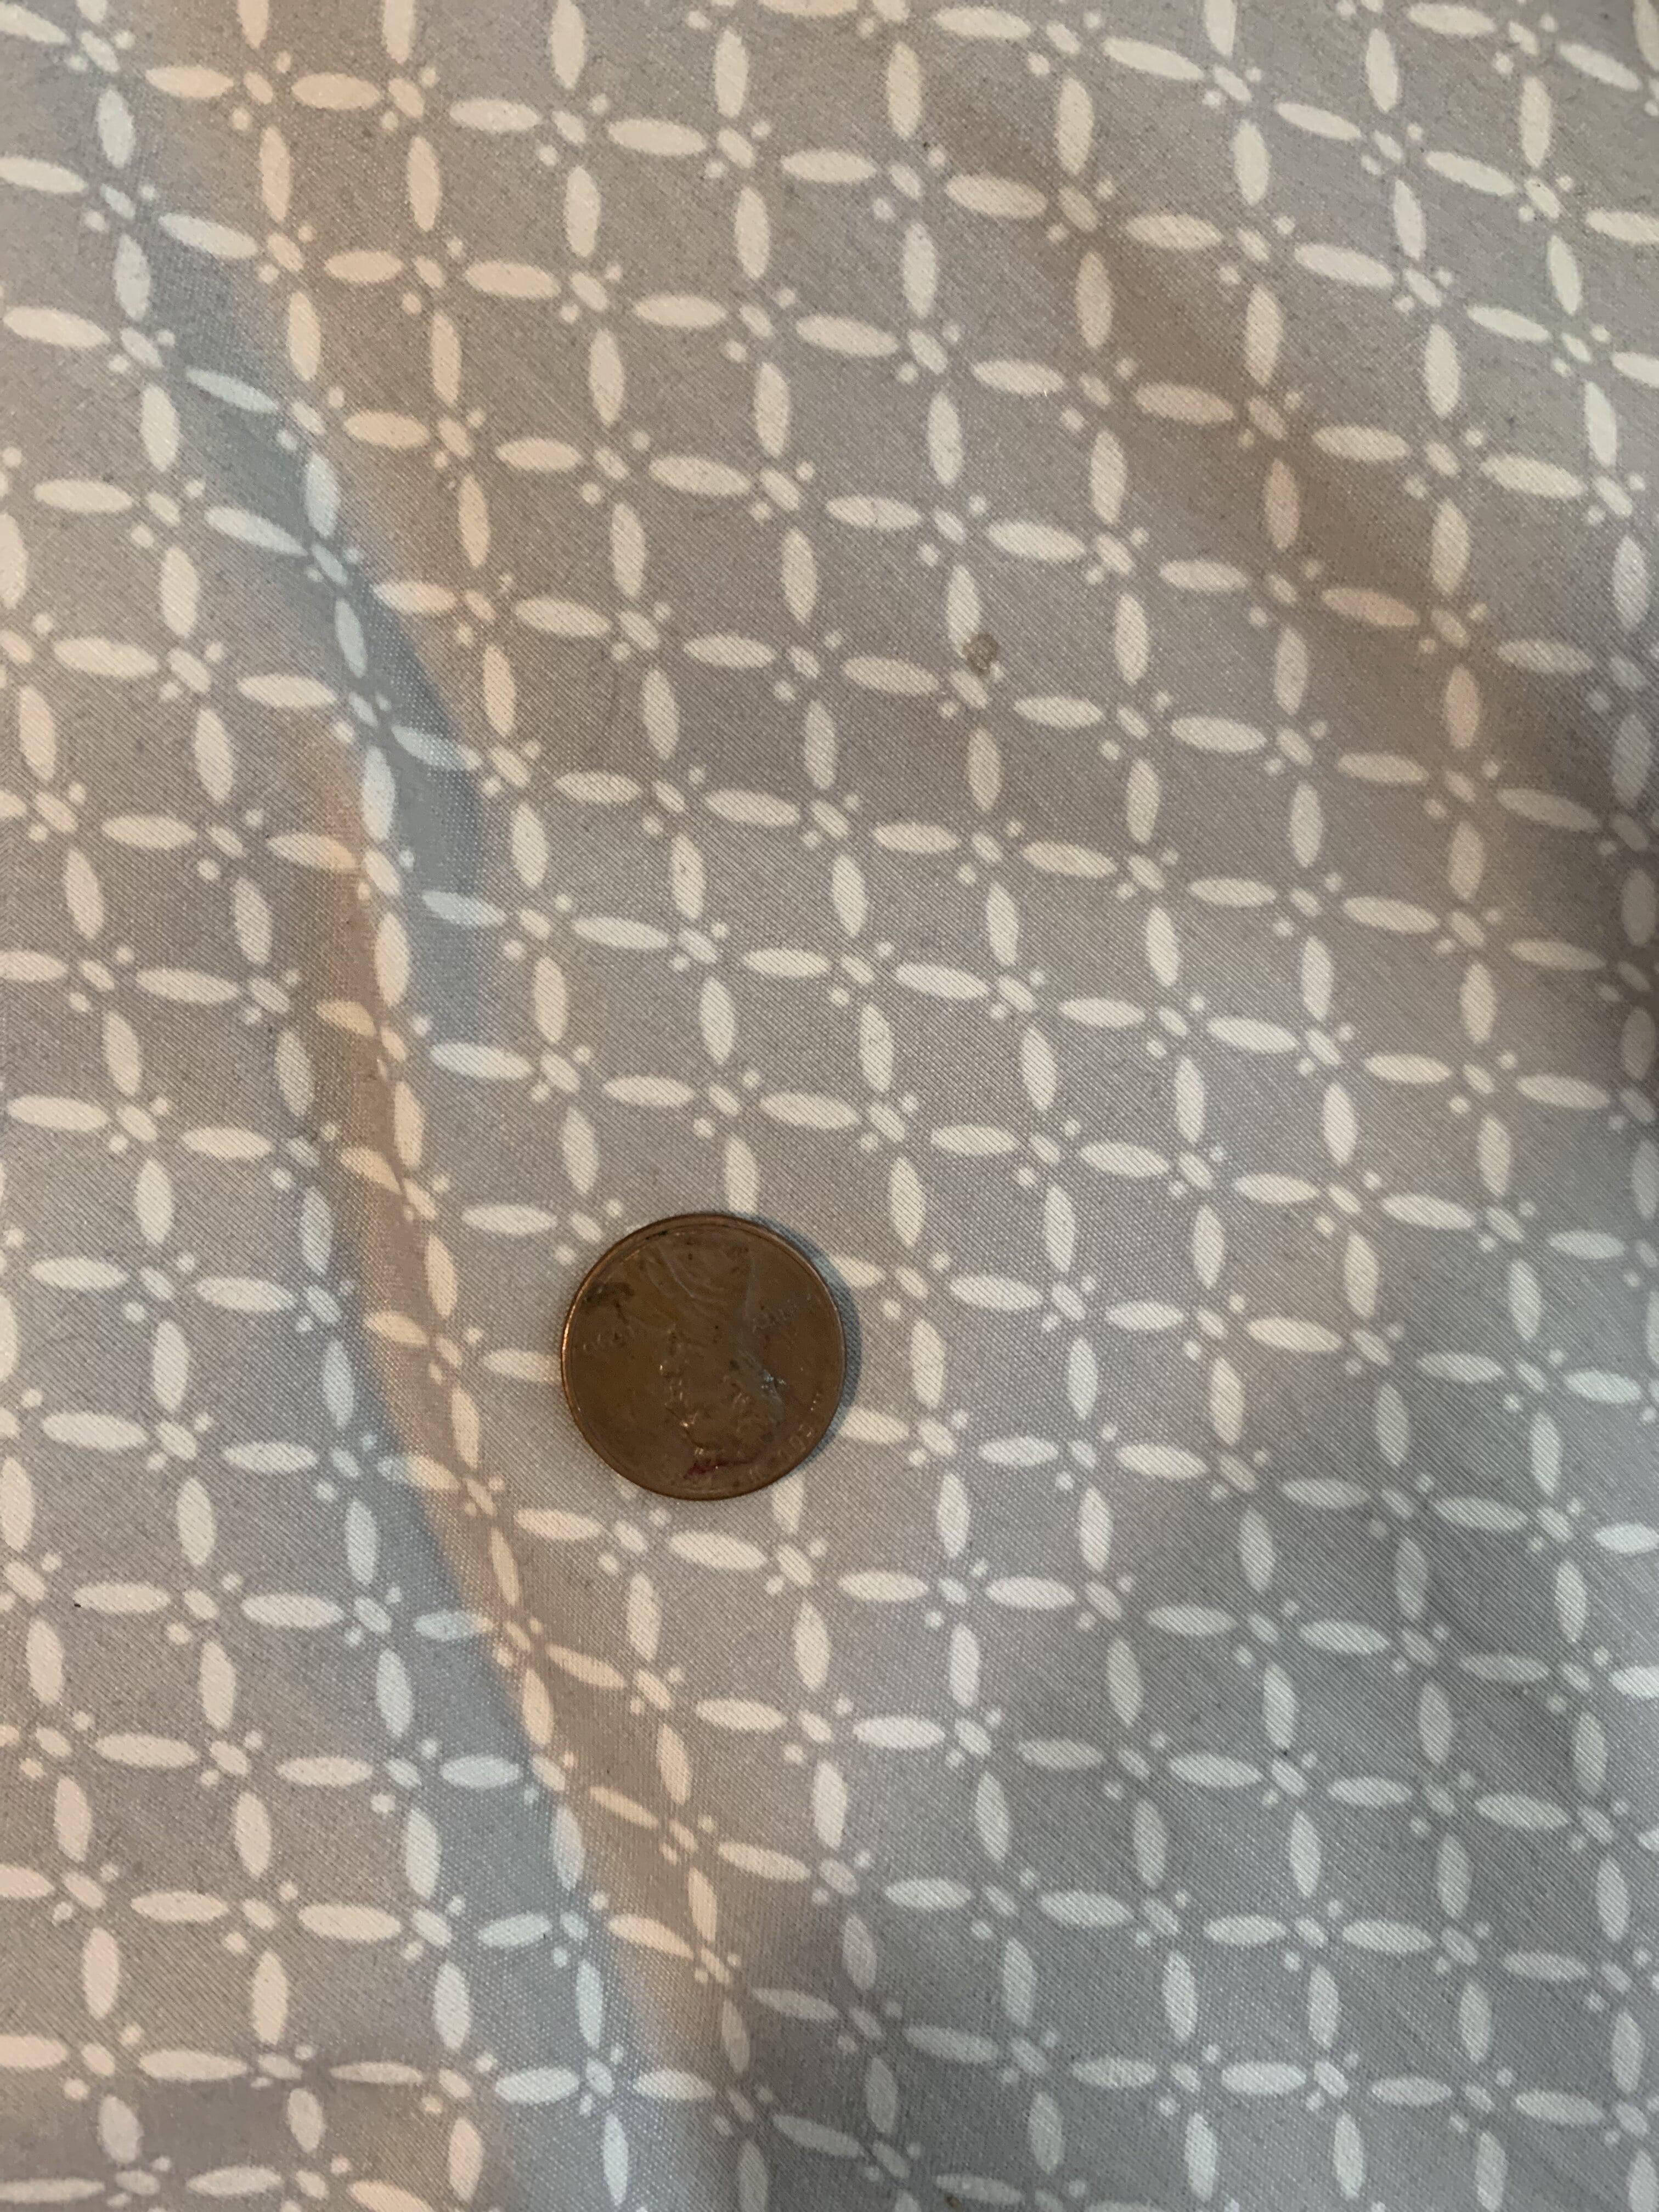Penny: (509, 1179, 903, 1529)
